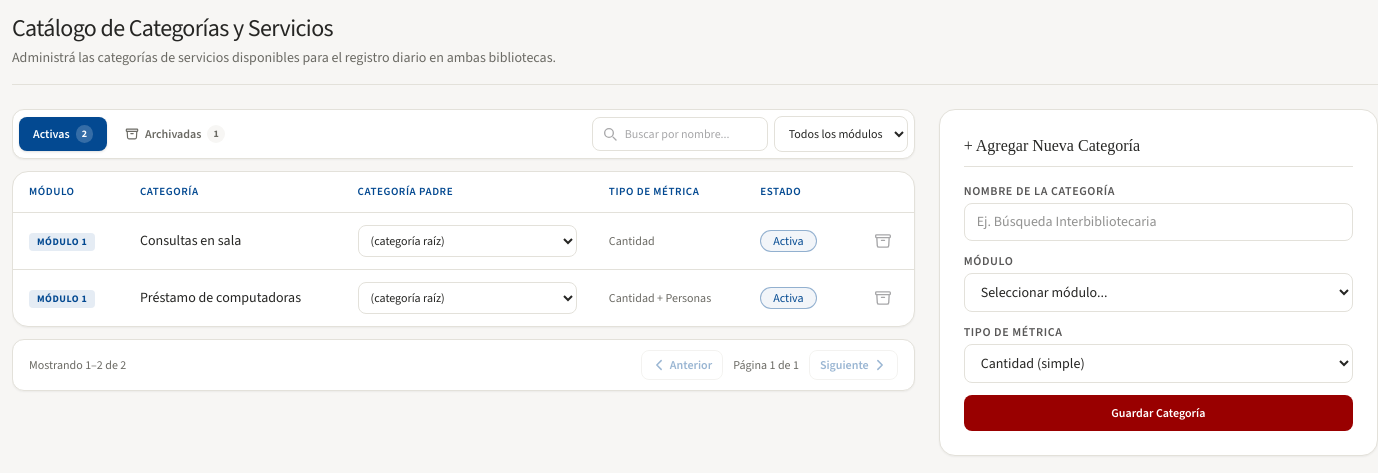
Scenario: CategoriesView › desactiva una categoría y la mueve a Archivadas
The image size is (1378, 473).
Expected: the text "Consultas en sala" is shown, x1=140 y1=231 x2=241 y2=250
What coordinates should you click on to do the following:
click the button named "Desactivar" in the row of "Consultas en sala"
I would click on:
 (883, 241)
Its box is x1=868 y1=226 x2=898 y2=256.
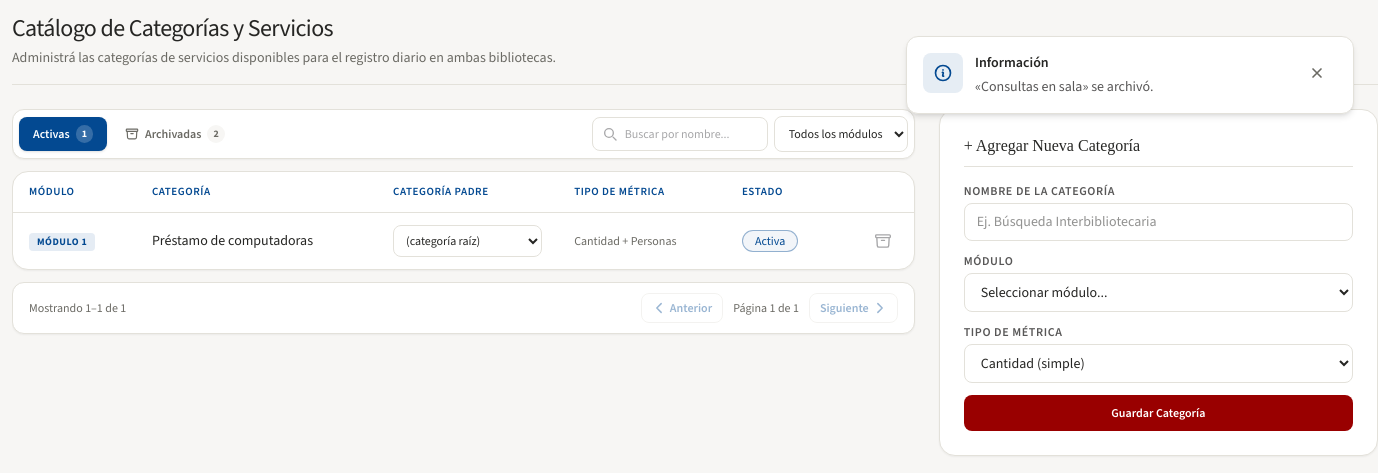
What coordinates should you click on to do the following:
click the button "Archivadas 2"
I would click on:
 (175, 134)
Its box is x1=111 y1=117 x2=239 y2=151.
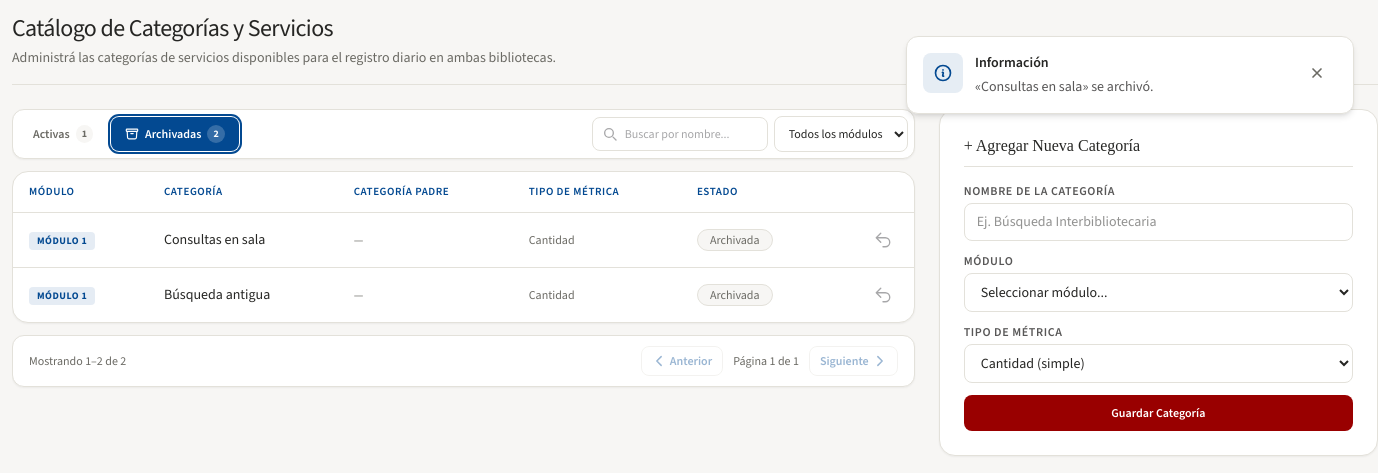
Result: the text "Consultas en sala" is shown at x1=164 y1=230 x2=265 y2=249
